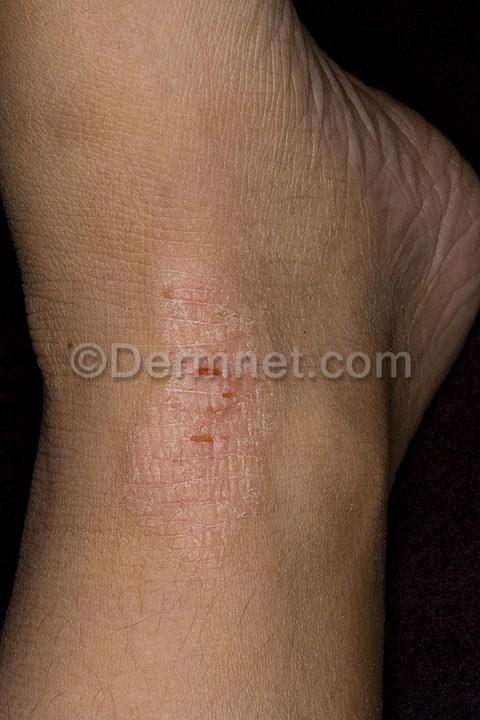Eczema: (93, 387, 315, 594), (119, 206, 280, 349)
